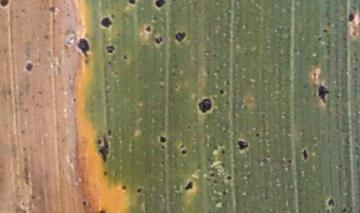tarspot: (76, 37, 90, 57), (99, 133, 109, 161), (317, 84, 329, 106), (99, 16, 112, 29), (199, 99, 212, 112), (236, 139, 249, 151), (175, 31, 186, 42), (184, 178, 193, 191), (301, 147, 309, 161), (47, 5, 57, 15), (25, 61, 34, 72), (106, 45, 115, 54), (154, 35, 163, 44), (42, 32, 51, 41), (155, 1, 165, 9), (347, 12, 355, 22), (82, 56, 90, 66), (1, 1, 10, 9), (217, 87, 226, 95), (159, 135, 167, 143), (172, 83, 180, 91), (122, 52, 129, 61), (207, 171, 216, 178), (145, 23, 151, 33), (115, 28, 121, 38), (120, 184, 128, 191), (181, 148, 188, 156), (254, 130, 261, 138), (112, 69, 120, 76), (81, 199, 87, 208), (328, 197, 334, 206), (71, 96, 78, 103), (226, 173, 232, 181), (220, 148, 226, 156), (341, 207, 349, 213), (317, 34, 323, 42), (106, 127, 112, 134), (185, 124, 192, 130), (212, 178, 218, 185), (98, 209, 107, 213), (102, 169, 108, 175), (179, 144, 185, 150), (221, 190, 227, 196), (287, 159, 293, 165), (97, 138, 102, 145), (136, 188, 143, 193), (322, 28, 329, 33), (128, 1, 136, 5), (161, 143, 165, 151), (108, 58, 112, 66), (160, 160, 165, 165)
